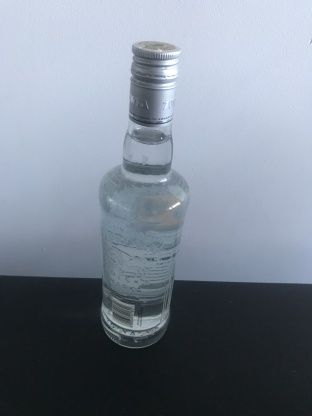nakretka: (127, 38, 182, 128)
